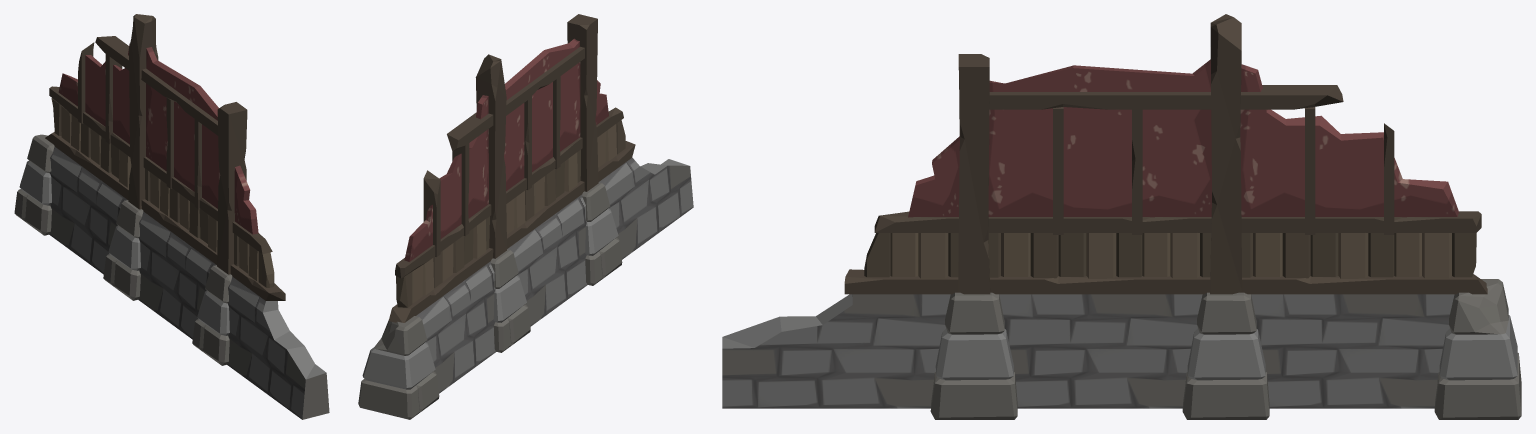
Rendered from SM_Prop_Destroyed_House_Piece_04.fbx.
3 views of the same model, side by side, from view 1: azimuth 30°, elevation 25°; view 2: azimuth 150°, elevation 25°; view 3: azimuth 270°, elevation 25° (orthographic). The views are drawn at different scales.
Visible parts, largest first — view 1: SM_Prop_Destroyed_House_Piece_04; view 2: SM_Prop_Destroyed_House_Piece_04; view 3: SM_Prop_Destroyed_House_Piece_04.
Part boxes in pixels (x1,y1,x2,y2): SM_Prop_Destroyed_House_Piece_04: (14,14,329,419); SM_Prop_Destroyed_House_Piece_04: (358,14,693,419); SM_Prop_Destroyed_House_Piece_04: (722,14,1521,419).
Size of the model in its own units: 85.25 by 420 by 793.
1 material, 1 textured.
